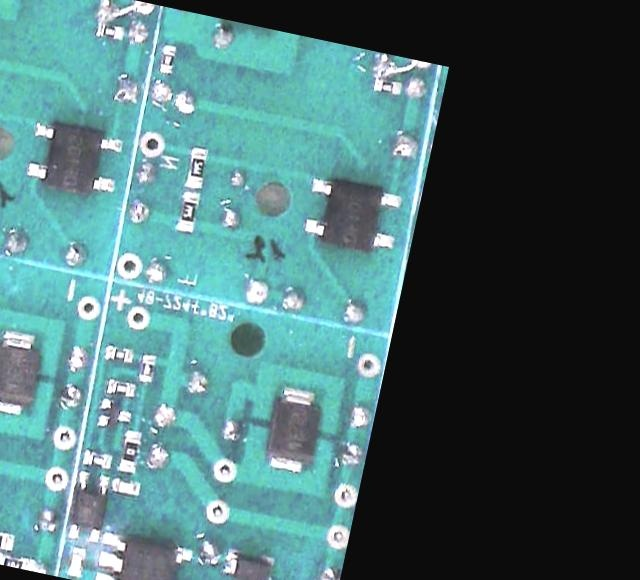chip-capacitor: (66, 546, 86, 577), (111, 477, 141, 496)
chip-resistor: (118, 428, 142, 472), (176, 190, 200, 232), (184, 146, 208, 187), (0, 551, 34, 571), (83, 447, 112, 468), (105, 377, 135, 397), (137, 353, 156, 382), (159, 43, 177, 73), (105, 344, 134, 362), (373, 77, 402, 94), (96, 22, 124, 39)
diode: (262, 383, 326, 475), (0, 327, 46, 418), (222, 547, 274, 580)
ic: (300, 171, 404, 255), (23, 117, 126, 199), (91, 527, 197, 580), (66, 469, 112, 541)
transistor: (96, 396, 132, 430)
